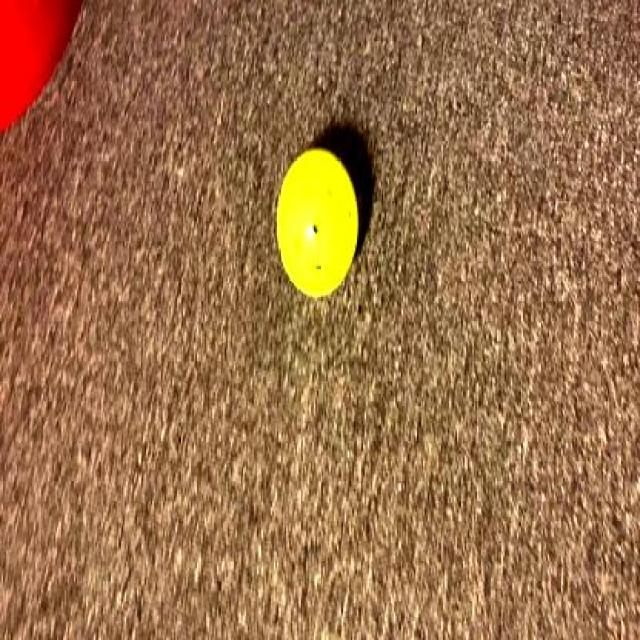ball: (273, 145, 368, 305)
